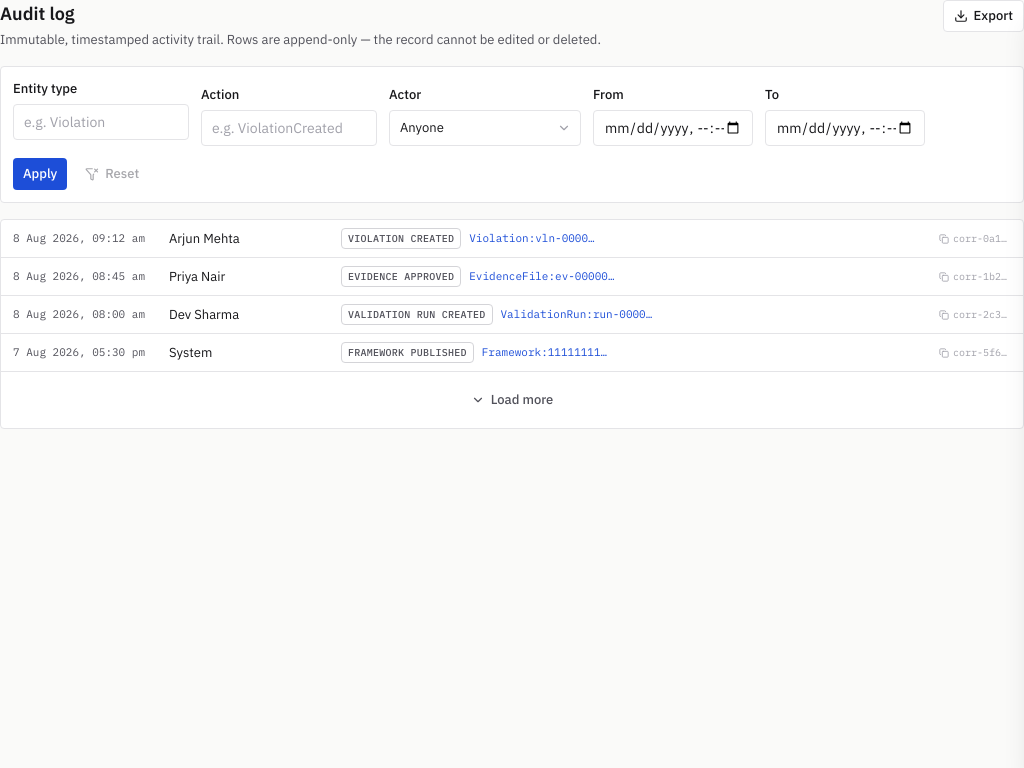
AuditView (§9.12) › opens the entity timeline with a JsonDiff of the change
expect the text "Violation Created" is shown: met, box x1=341 y1=228 x2=461 y2=249
Click the button "Violation:vln-0000…" at (532, 239), box x1=469 y1=230 x2=595 y2=247
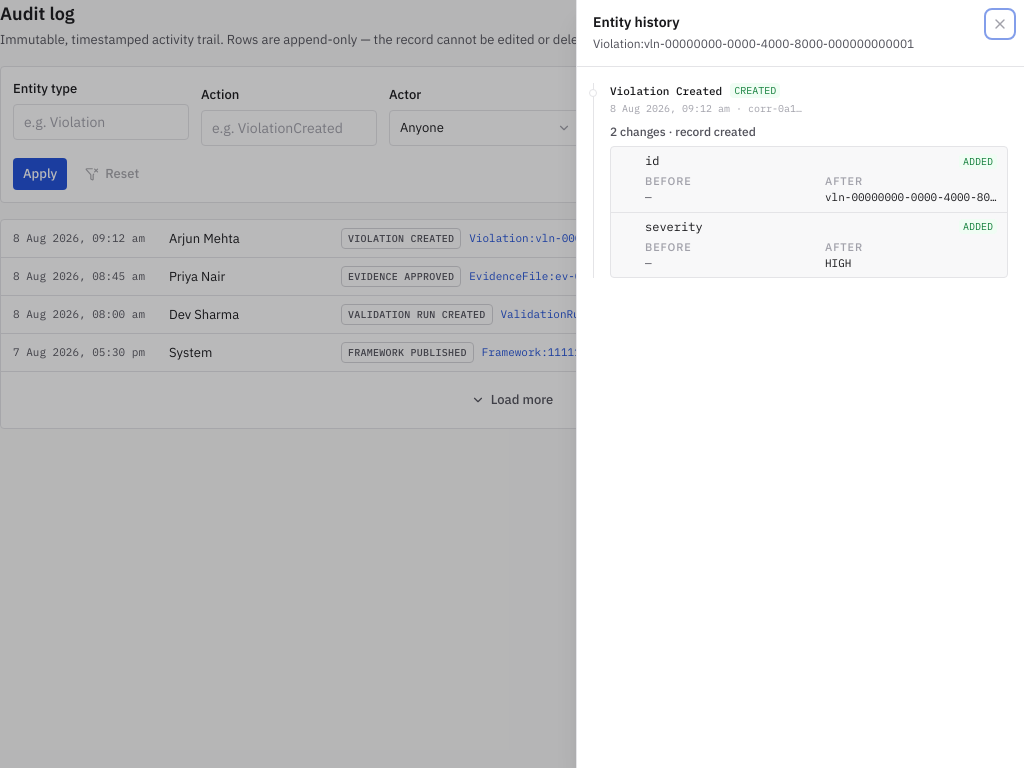
expect the text "Violation:vln-00000000-0000-4000-8000-000000000001" is shown: met, box x1=593 y1=34 x2=914 y2=54
expect the text "severity" is shown: met, box x1=645 y1=218 x2=703 y2=234
expect the text "HIGH" is shown: met, box x1=825 y1=256 x2=851 y2=270
